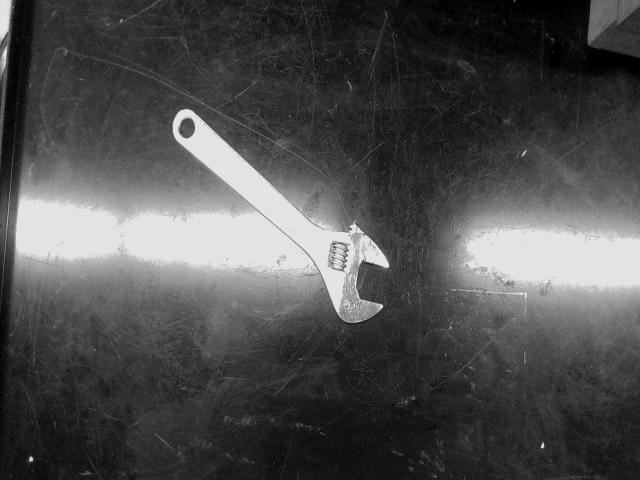Adjustable spanner: (172, 110, 389, 322)
